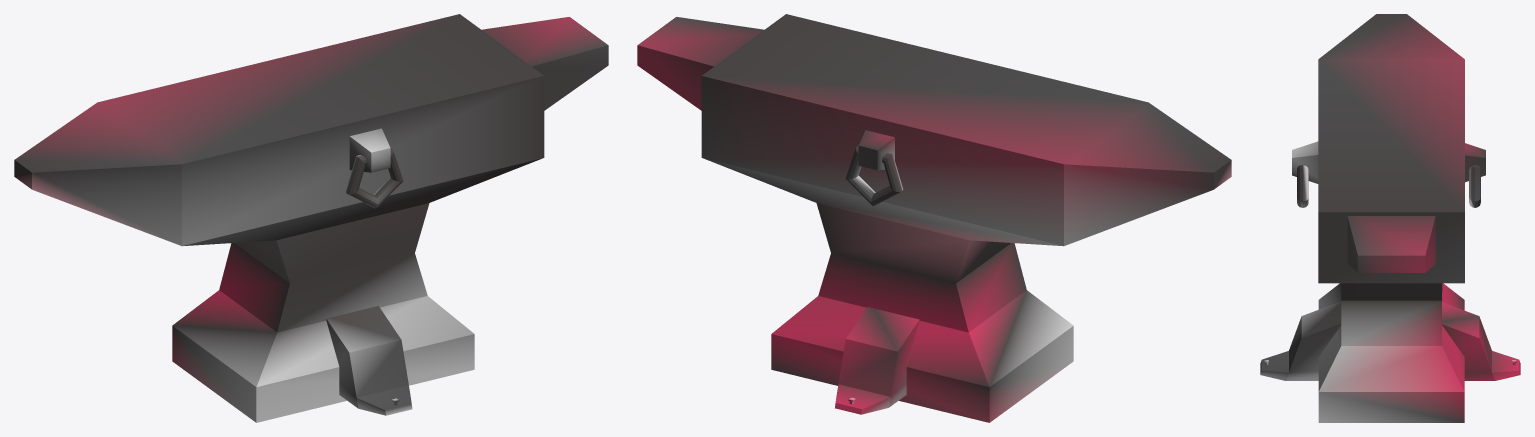
The model's file is Bigorna.fbx.
3 renders of one model, left to right at view 1: azimuth 30°, elevation 25°; view 2: azimuth 150°, elevation 25°; view 3: azimuth 270°, elevation 25°, orthographic. The views are drawn at different scales.
Parts seen in each view (by area): view 1: Bigorna; view 2: Bigorna; view 3: Bigorna.
Part boxes in pixels (x1=…): Bigorna: x1=14, y1=14, x2=608, y2=422; Bigorna: x1=637, y1=14, x2=1231, y2=422; Bigorna: x1=1260, y1=14, x2=1520, y2=422.
Bounding box in the file's own units: 200 × 93.35 × 91.89.
